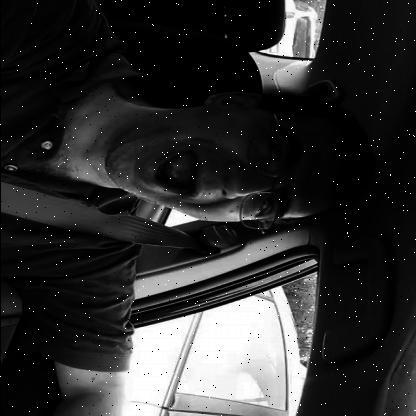seatbelt: (0, 86, 375, 236)
